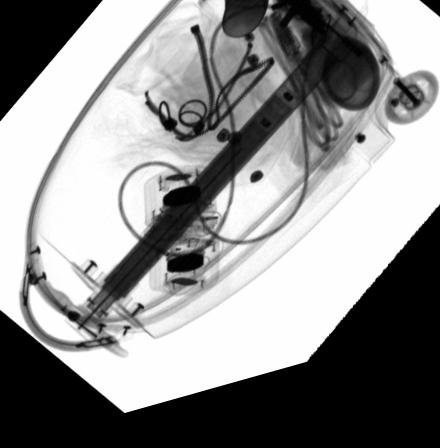Gun: (269, 0, 363, 77)
